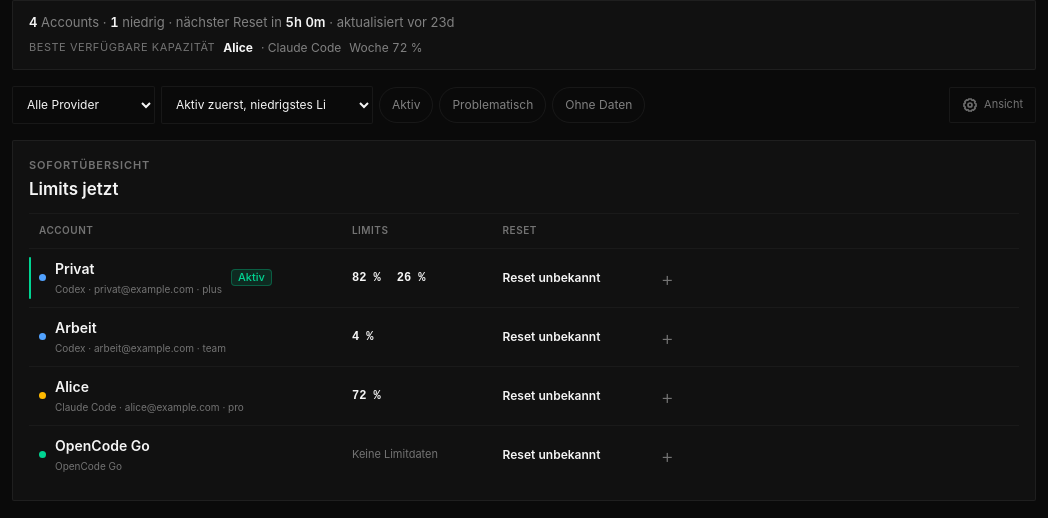
Test: UsageOverview › filtert nach Provider über die Filterleiste
This screenshot has width=1048, height=518.
Select "Claude Code" in the 1st dropdown named "Provider" at (84, 104), box [13,86,154,122]
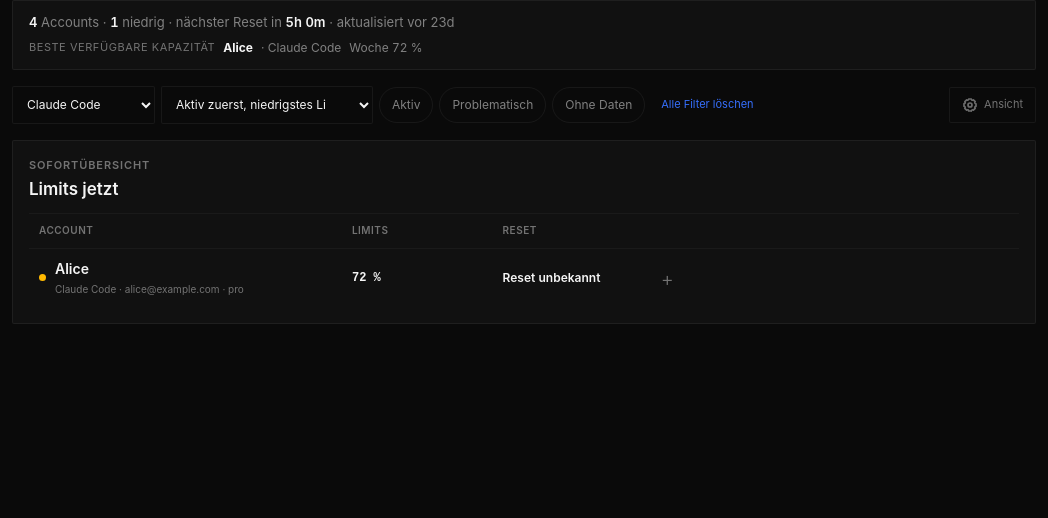
Check: the text "Alice" below "Limits jetzt" is shown, box [55,260,89,277]
Check: the button "Privat" is gone
Check: the button "Arbeit" is gone
